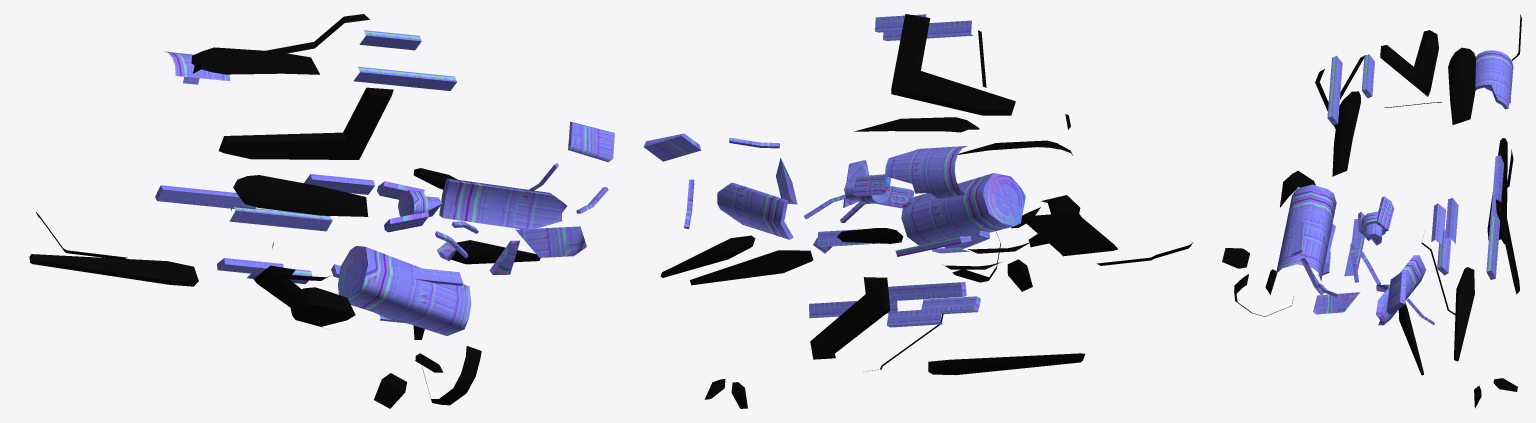
The model's file is ama_ship_wreck_01_03.glb.
3 views of the same model, side by side, from view 1: azimuth 30°, elevation 25°; view 2: azimuth 150°, elevation 25°; view 3: azimuth 270°, elevation 25° (orthographic). The views are drawn at different scales.
Visible parts, largest first — view 1: ama_ship_wreck_details_01_03_LOD0, ama_ship_wreck_01_03_LOD0; view 2: ama_ship_wreck_details_01_03_LOD0, ama_ship_wreck_01_03_LOD0; view 3: ama_ship_wreck_details_01_03_LOD0, ama_ship_wreck_01_03_LOD0.
Boxes of the visible parts, <box> form: ama_ship_wreck_details_01_03_LOD0: <box>155,30,614,335</box>; ama_ship_wreck_01_03_LOD0: <box>29,14,540,408</box>; ama_ship_wreck_details_01_03_LOD0: <box>643,14,1025,327</box>; ama_ship_wreck_01_03_LOD0: <box>660,14,1192,408</box>; ama_ship_wreck_details_01_03_LOD0: <box>1276,50,1513,325</box>; ama_ship_wreck_01_03_LOD0: <box>1222,14,1521,408</box>.
Size of what is drawn, in the model's own units: 7.55 by 5.14 by 4.47.
Materials: 2 (2 with a texture image).
